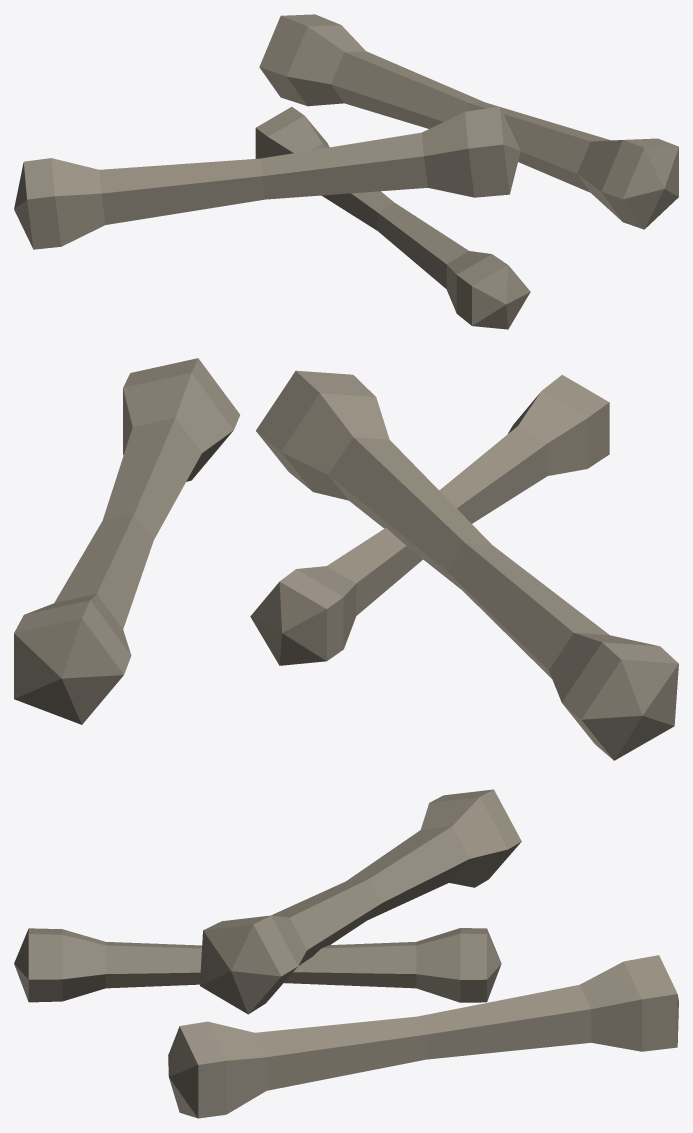
File: SM_Env_BonePile_Small_02.fbx
The picture shows the model from 3 angles, top to bottom: view 1: azimuth 30°, elevation 25°; view 2: azimuth 150°, elevation 25°; view 3: azimuth 270°, elevation 25°; orthographic projection. The views are drawn at different scales.
Visible parts, largest first — view 1: SM_Env_BonePile_Small_02; view 2: SM_Env_BonePile_Small_02; view 3: SM_Env_BonePile_Small_02.
Part boxes in pixels (bbox=[...]): SM_Env_BonePile_Small_02: bbox=[14, 14, 678, 329]; SM_Env_BonePile_Small_02: bbox=[14, 358, 678, 760]; SM_Env_BonePile_Small_02: bbox=[14, 789, 678, 1118].
Size of the model in its own units: 1.31 by 0.3046 by 1.32.
